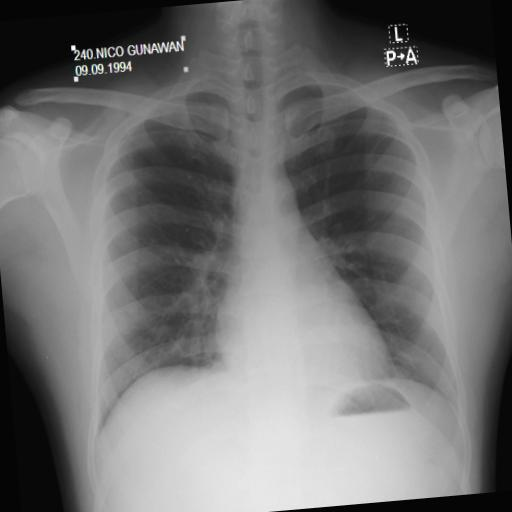normal: (52, 38, 468, 450)
